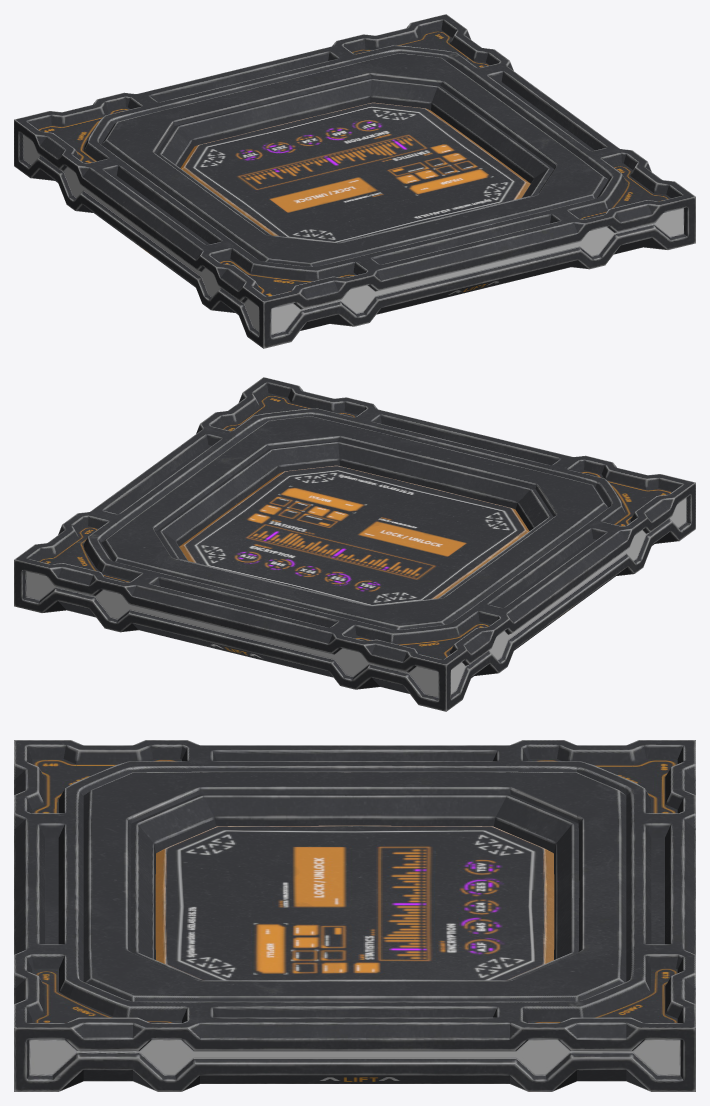
Rendered from World_Crate_Lid.fbx.
The picture shows the model from 3 angles, top to bottom: view 1: azimuth 30°, elevation 25°; view 2: azimuth 150°, elevation 25°; view 3: azimuth 270°, elevation 25°; orthographic projection. The views are drawn at different scales.
Visible parts, largest first — view 1: World_Crate_Lid; view 2: World_Crate_Lid; view 3: World_Crate_Lid.
Part boxes in pixels (x1,y1,x2,y2): World_Crate_Lid: [14, 14, 695, 348]; World_Crate_Lid: [14, 377, 695, 711]; World_Crate_Lid: [14, 740, 695, 1091].
Bounding box in the file's own units: 1.45 × 0.1493 × 1.45.
